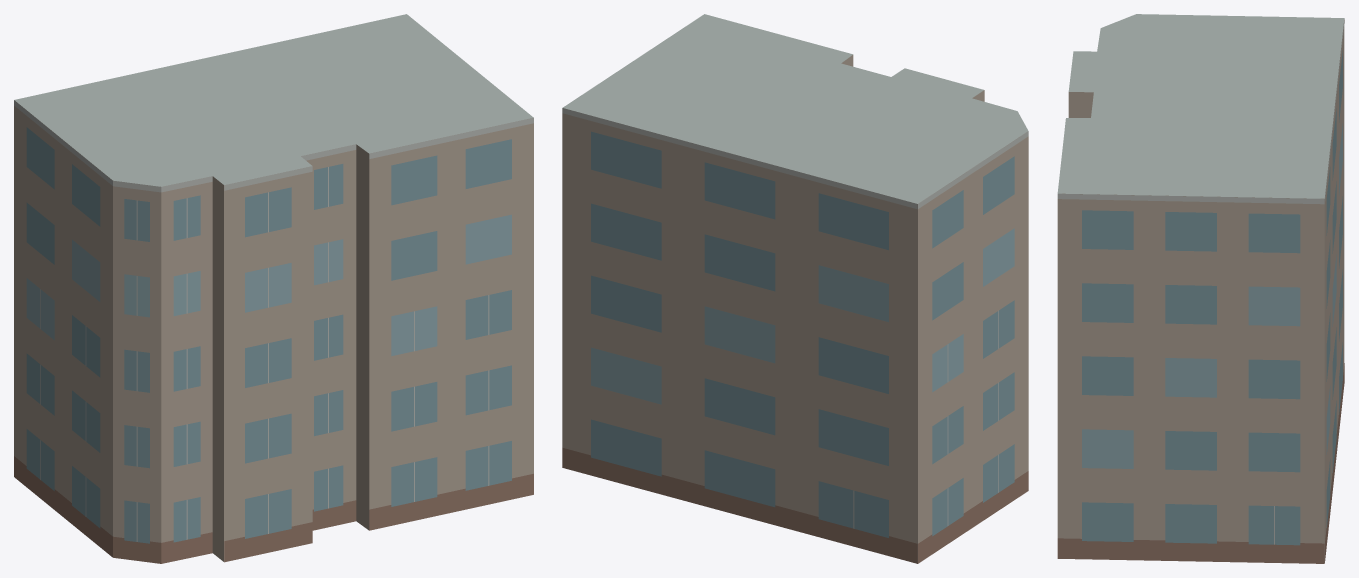
File: survey-upis-32907073.glb
The picture shows the model from 3 angles, left to right: view 1: azimuth 30°, elevation 25°; view 2: azimuth 150°, elevation 25°; view 3: azimuth 270°, elevation 25°; orthographic projection. The views are drawn at different scales.
Visible parts, largest first — view 1: survey-upis-32907073.tmp; view 2: survey-upis-32907073.tmp; view 3: survey-upis-32907073.tmp.
Part boxes in pixels (x1=…): survey-upis-32907073.tmp: x1=14, y1=14, x2=533, y2=563; survey-upis-32907073.tmp: x1=562, y1=14, x2=1028, y2=563; survey-upis-32907073.tmp: x1=1057, y1=14, x2=1344, y2=563.
Bounding box in the file's own units: 17.81 × 16.4 × 11.69.
